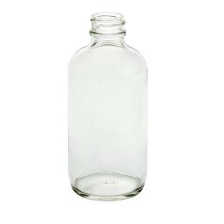bottle: (60, 4, 152, 205)
